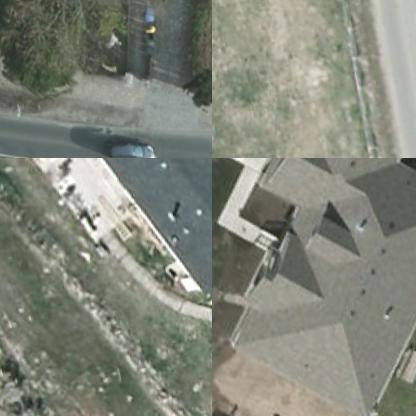car: (104, 124, 160, 157)
